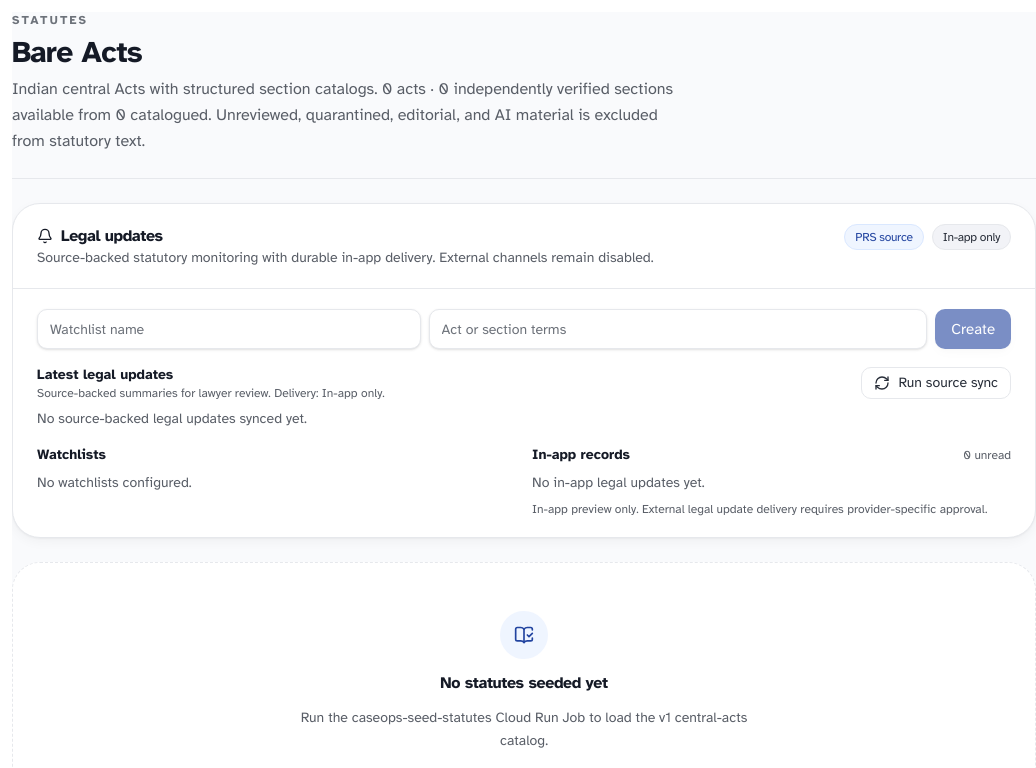
it: StatutesIndexPage › BUG-049: surfaces the backend error verbatim when watchlist creation fails
The image size is (1036, 768).
Step 1. Type "NI Act updates" into the field with test id "legal-update-name" → (229, 329), box [37,309,420,349]
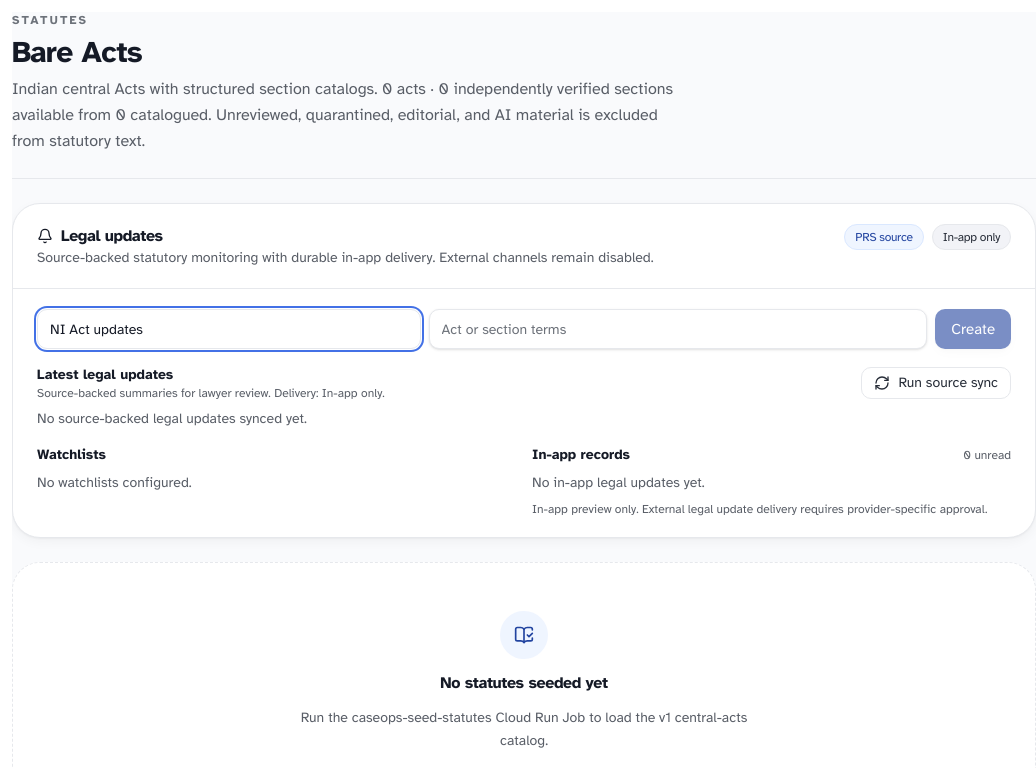
Step 2. Type "Section 138" into the field with test id "legal-update-terms" → (678, 329), box [428,309,927,349]
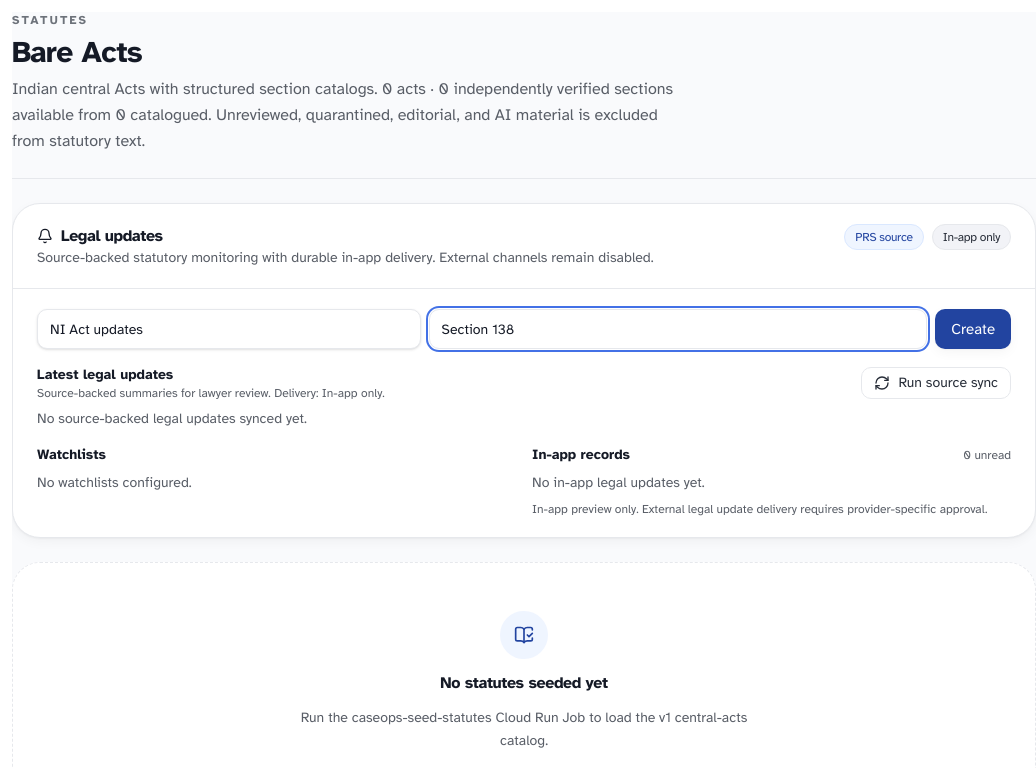
Step 3. Click the button with test id "legal-update-create" → click(973, 329), box [935,309,1011,349]
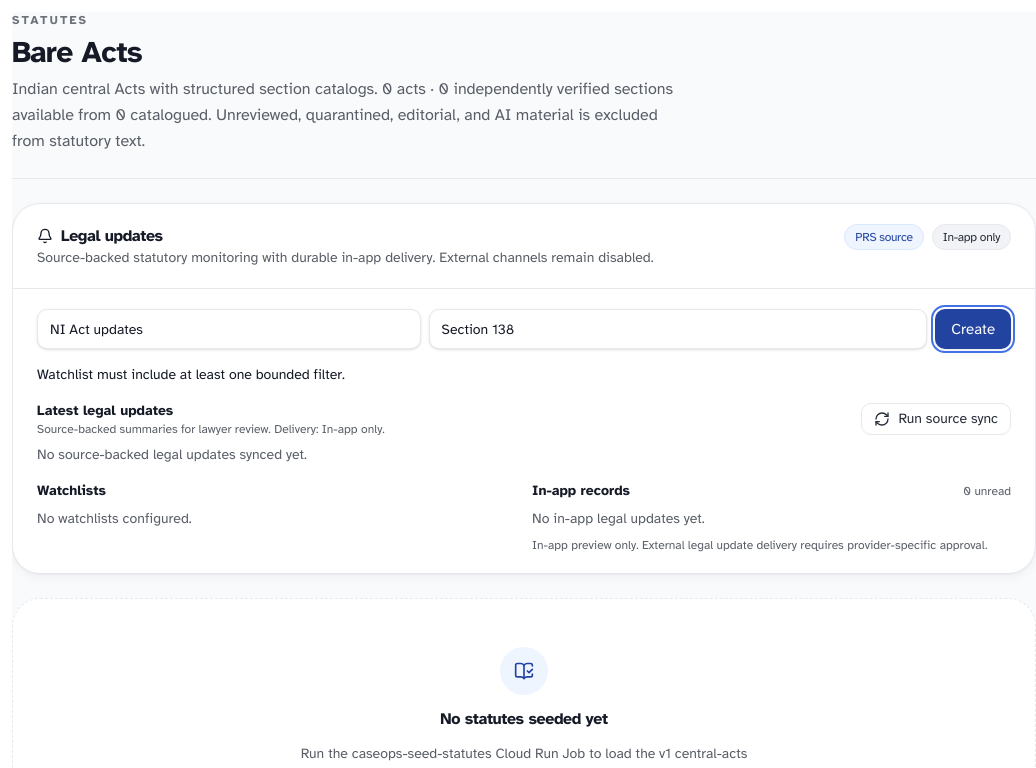
Result: the text with test id "legal-update-create-error" reads "Watchlist must include at least one bounded filter." at [37,366,345,383]
